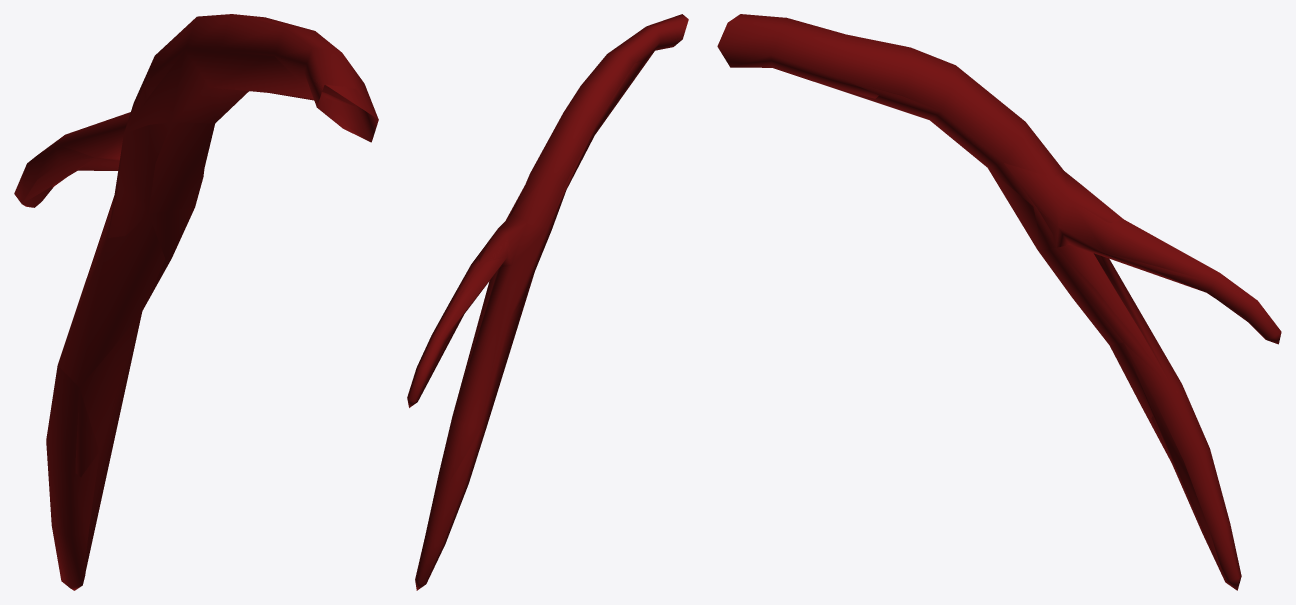
The model's file is R profunda antebrachii.fbx.
The picture shows the model from 3 angles, left to right: view 1: azimuth 30°, elevation 25°; view 2: azimuth 150°, elevation 25°; view 3: azimuth 270°, elevation 25°; orthographic projection. The views are drawn at different scales.
Visible parts, largest first — view 1: R profunda antebrachii, R profunda antebrachii low; view 2: R profunda antebrachii, R profunda antebrachii low; view 3: R profunda antebrachii, R profunda antebrachii low.
Boxes of the visible parts, x1=… form: R profunda antebrachii: x1=14, y1=14, x2=378, y2=590; R profunda antebrachii low: x1=22, y1=32, x2=378, y2=583; R profunda antebrachii: x1=407, y1=14, x2=688, y2=590; R profunda antebrachii low: x1=419, y1=20, x2=688, y2=480; R profunda antebrachii: x1=717, y1=14, x2=1281, y2=590; R profunda antebrachii low: x1=781, y1=19, x2=1251, y2=580.
Bounding box in the file's own units: 0.7675 × 4.55 × 4.31.
